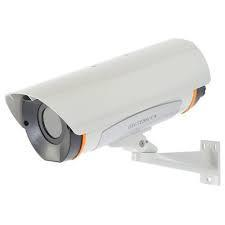tutu: (7, 35, 214, 164)
